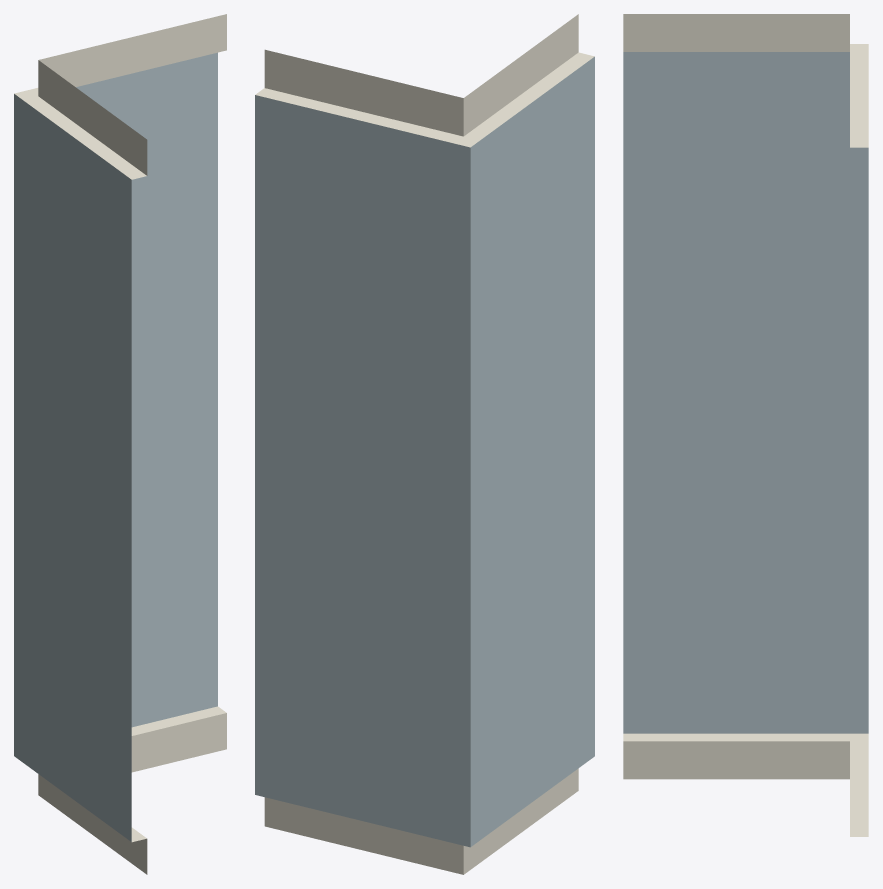
Rendered from 02_wall(Corner).FBX.
3 views of the same model, side by side, from view 1: azimuth 30°, elevation 25°; view 2: azimuth 150°, elevation 25°; view 3: azimuth 270°, elevation 25° (orthographic). The views are drawn at different scales.
Visible parts, largest first — view 1: 02_wall(Corner); view 2: 02_wall(Corner); view 3: 02_wall(Corner).
Part boxes in pixels (box(x1,y1,x2,y2)): 02_wall(Corner): box(14, 14, 226, 874); 02_wall(Corner): box(255, 14, 594, 874); 02_wall(Corner): box(623, 14, 868, 836).
Size of the model in its own units: 73.45 by 253 by 73.47.
